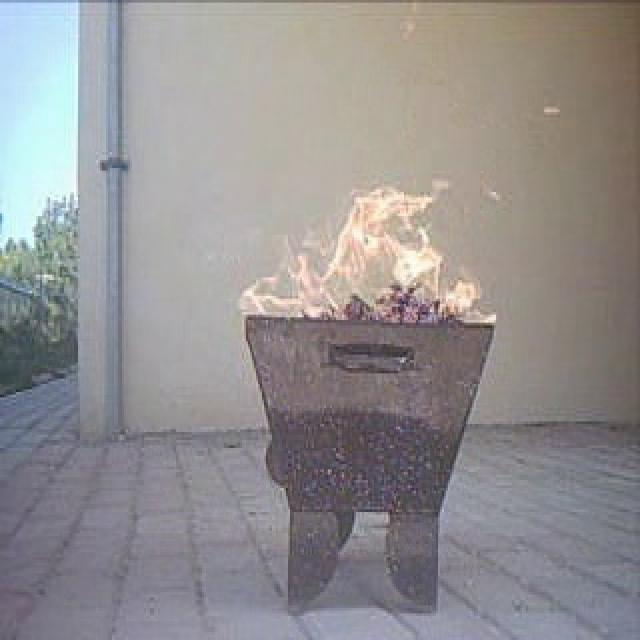Fire: (261, 196, 472, 344)
